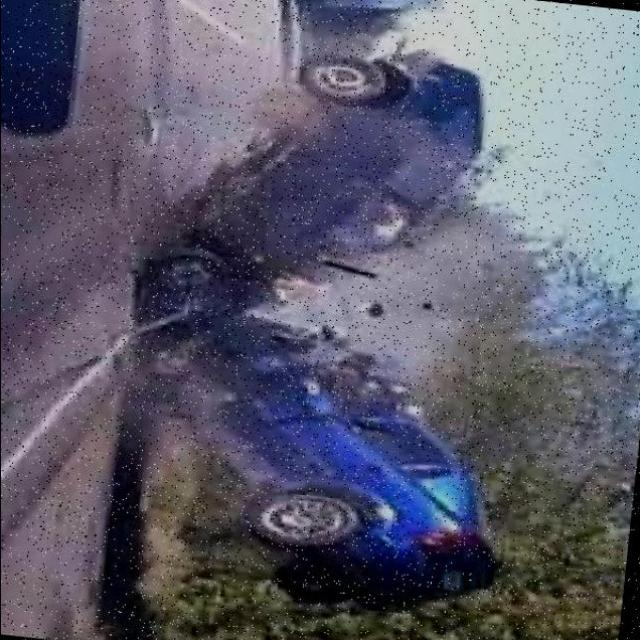accident: (102, 16, 553, 626)
